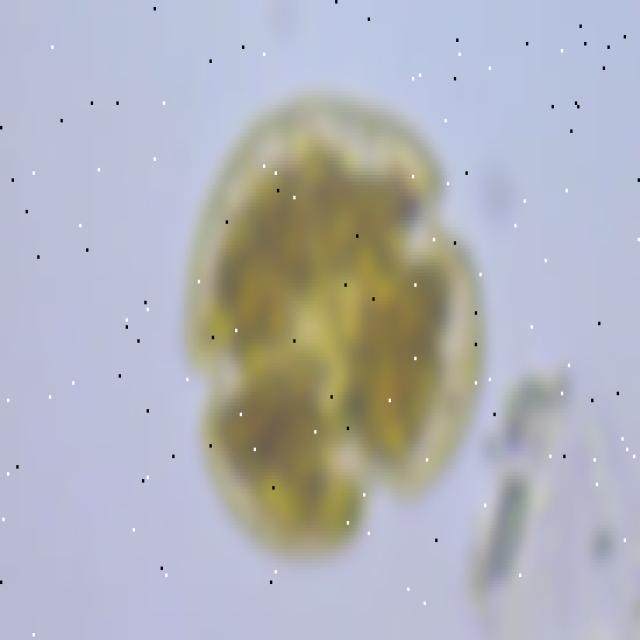Karenia: (158, 113, 489, 562)
